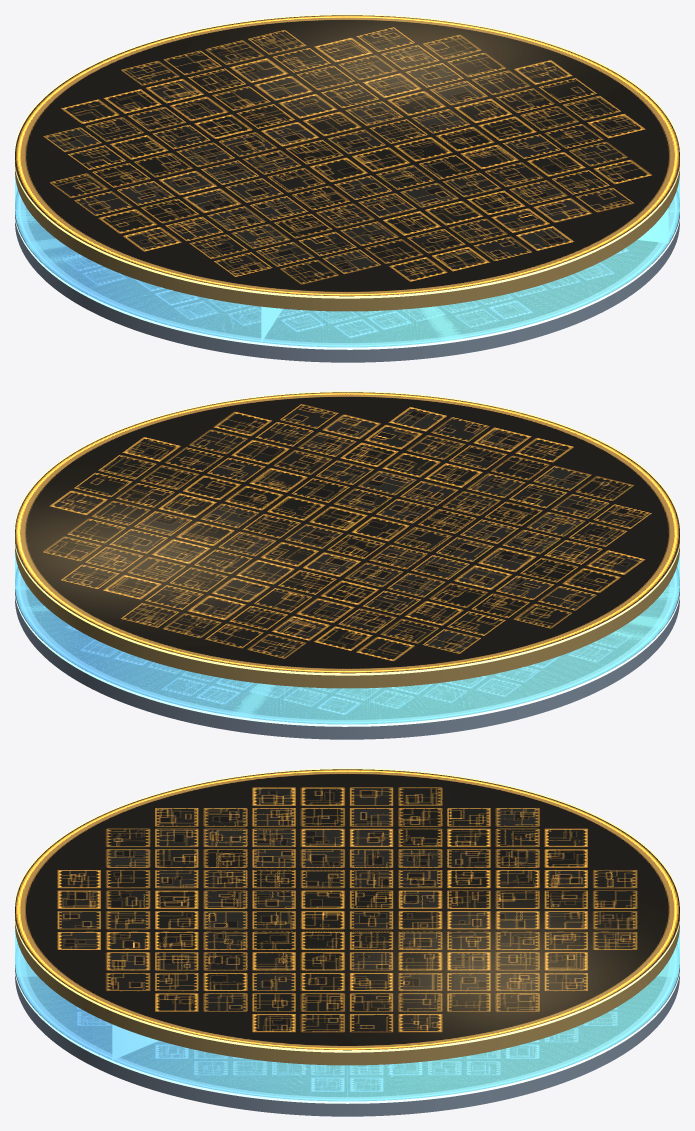
File: titanym-wafer.glb
The picture shows the model from 3 angles, top to bottom: view 1: azimuth 30°, elevation 25°; view 2: azimuth 150°, elevation 25°; view 3: azimuth 270°, elevation 25°; orthographic projection.
Parts seen in each view (by area): view 1: RF_main, RF_wedgebody, SiGe_wedgebody, Sapphire_wedgebody, SiGe_main, Sapphire_main; view 2: RF_main, RF_wedgebody, SiGe_main, Sapphire_main; view 3: RF_main, RF_wedgebody, SiGe_main, Sapphire_main, SiGe_wedgebody, Sapphire_wedgebody.
Part boxes in pixels (x1=…): RF_main: x1=14, y1=14, x2=680, y2=306; RF_wedgebody: x1=261, y1=156, x2=669, y2=311; SiGe_wedgebody: x1=261, y1=240, x2=669, y2=362; Sapphire_wedgebody: x1=261, y1=208, x2=668, y2=347; SiGe_main: x1=14, y1=191, x2=680, y2=357; Sapphire_main: x1=15, y1=175, x2=679, y2=342; RF_main: x1=14, y1=396, x2=680, y2=688; RF_wedgebody: x1=261, y1=391, x2=669, y2=532; SiGe_main: x1=14, y1=567, x2=680, y2=739; Sapphire_main: x1=15, y1=552, x2=679, y2=724; RF_main: x1=111, y1=768, x2=680, y2=1065; RF_wedgebody: x1=14, y1=809, x2=346, y2=1023; SiGe_main: x1=111, y1=951, x2=680, y2=1116; Sapphire_main: x1=112, y1=929, x2=679, y2=1101; SiGe_wedgebody: x1=14, y1=944, x2=112, y2=1074; Sapphire_wedgebody: x1=15, y1=929, x2=118, y2=1059.
Size of the model in its own units: 2.01 by 0.222 by 2.01.
13 materials, 3 textured.
